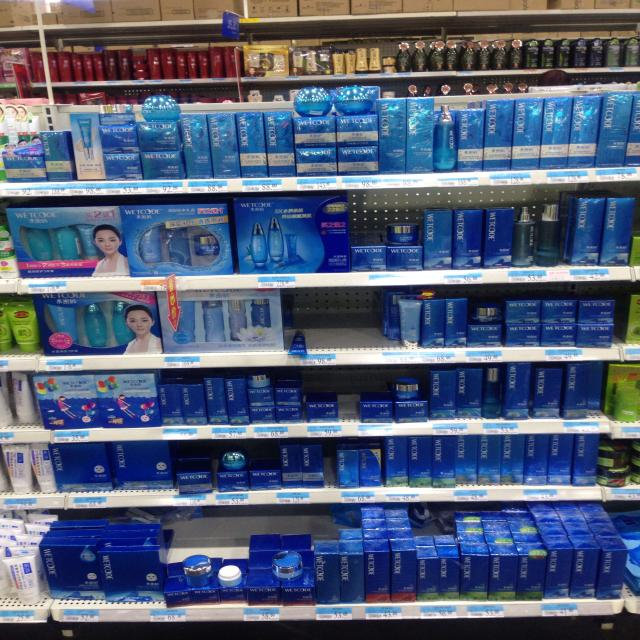empty: (309, 285, 404, 358)
